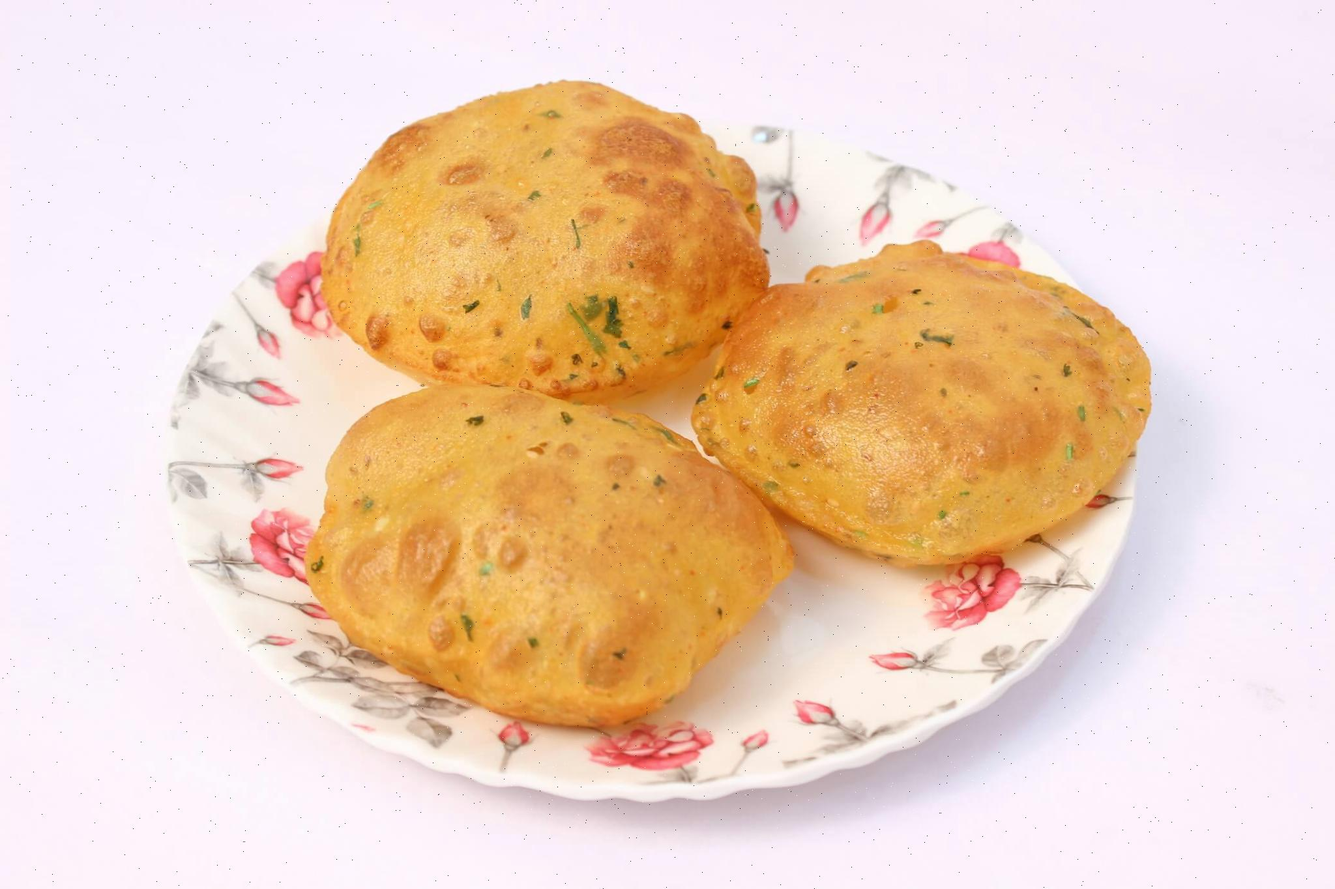puri: (277, 77, 1172, 708)
